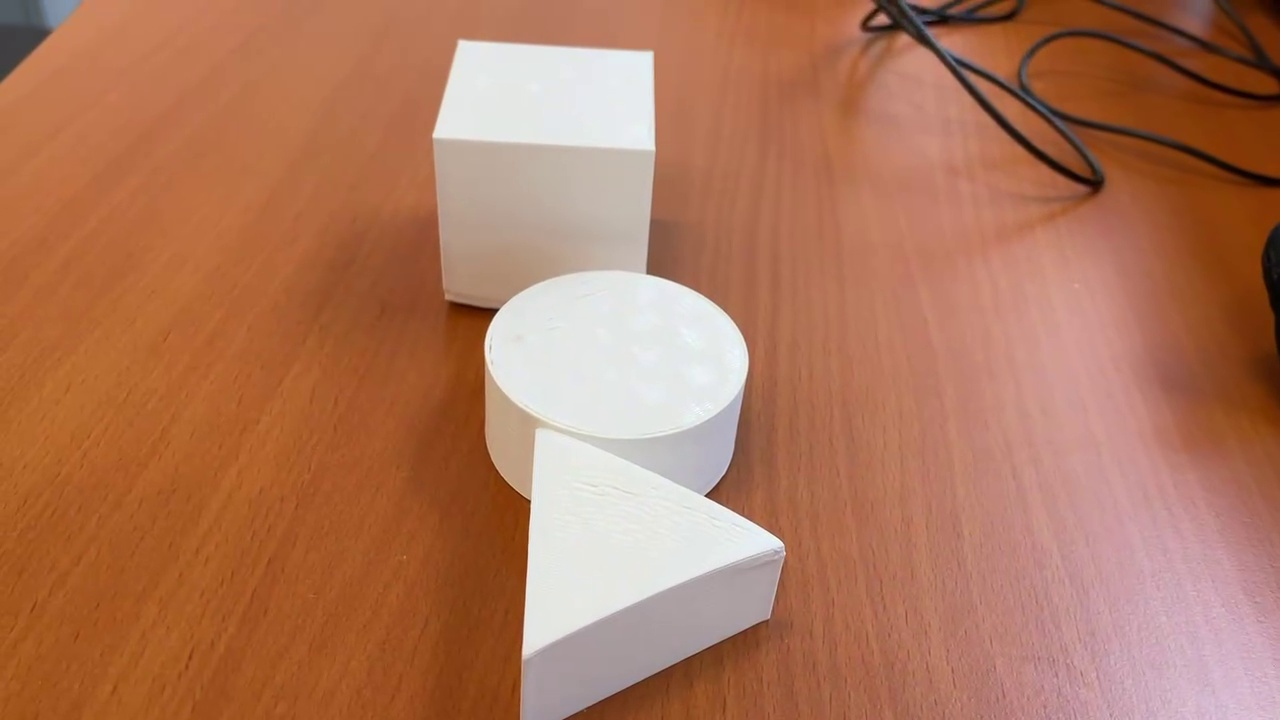Clyinder_short: (481, 270, 748, 507)
Cube: (428, 35, 658, 315)
Triangle_short: (518, 428, 785, 720)
